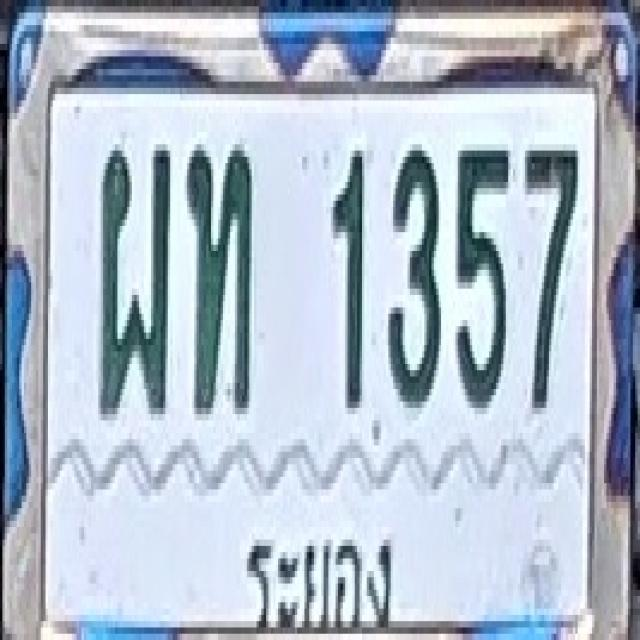1: (331, 144, 364, 408)
3: (387, 144, 440, 408)
5: (454, 144, 510, 408)
7: (525, 144, 578, 408)
A23: (187, 141, 252, 411)
A28: (98, 141, 170, 417)
RYG: (238, 509, 400, 636)
